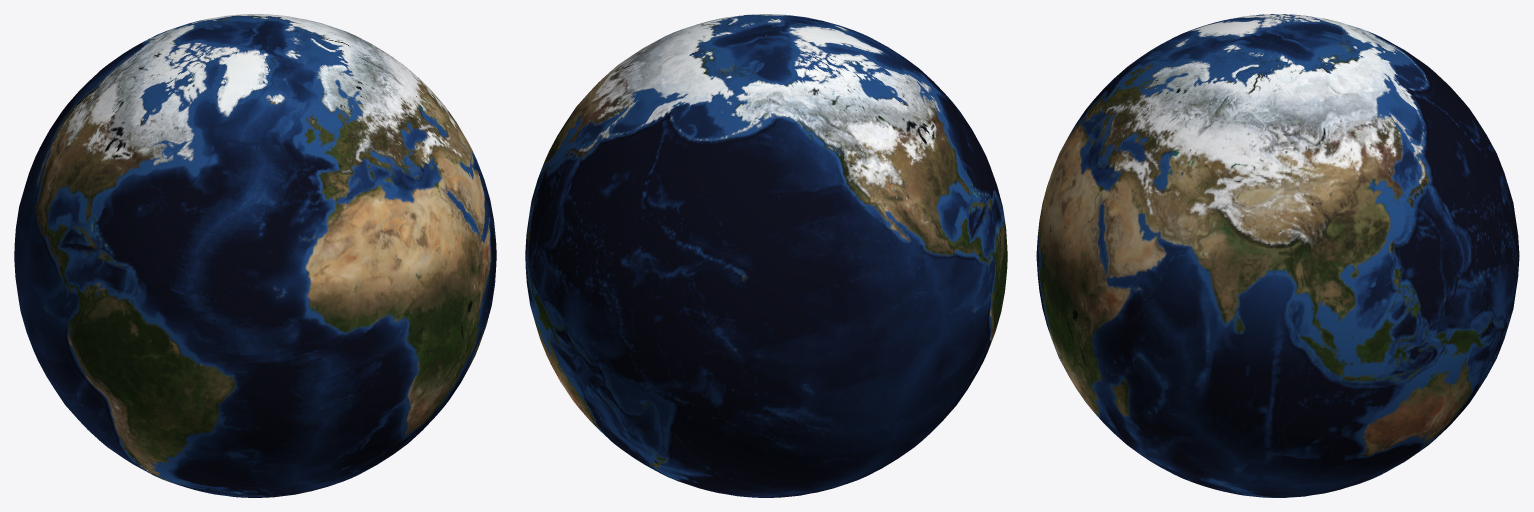
Rendered from earth.glb.
3 renders of one model, left to right at view 1: azimuth 30°, elevation 25°; view 2: azimuth 150°, elevation 25°; view 3: azimuth 270°, elevation 25°, orthographic.
Visible parts, largest first — view 1: earth; view 2: earth; view 3: earth.
Part boxes in pixels (x1=…): earth: x1=14, y1=14, x2=496, y2=497; earth: x1=525, y1=14, x2=1007, y2=497; earth: x1=1036, y1=14, x2=1519, y2=497.
Size of the model in its own units: 1.99 by 2 by 1.99.
Materials: 1 (1 with a texture image).
